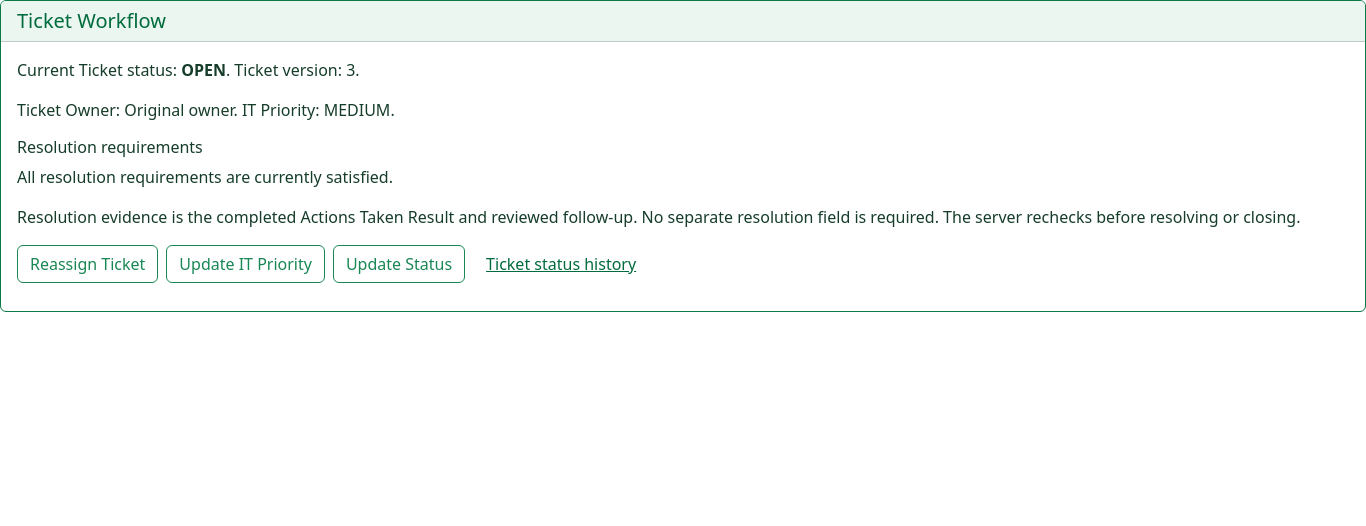
Test: Ticket Workflow component (UI-03, I4 AC-01–06) › submits the captured version and updates Ticket/actions only after success
The image size is (1366, 526).
Click the button "Update Status" at (399, 264), box x1=333 y1=245 x2=465 y2=283
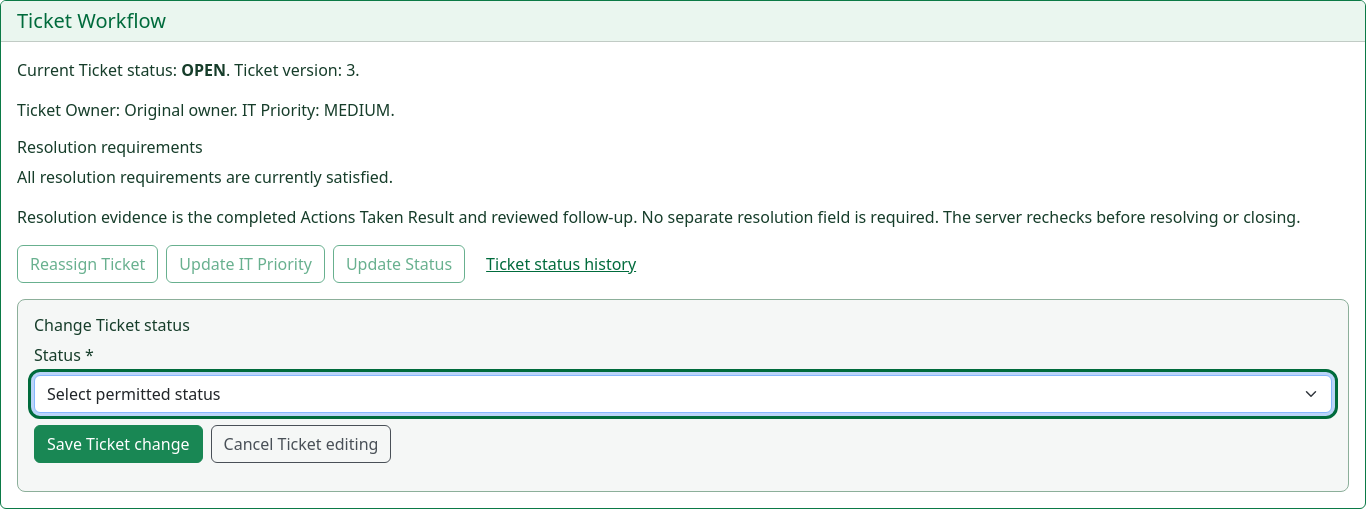
Select "IN PROGRESS" in the dropdown labelled "Status *" at (683, 394), box x1=34 y1=375 x2=1332 y2=413
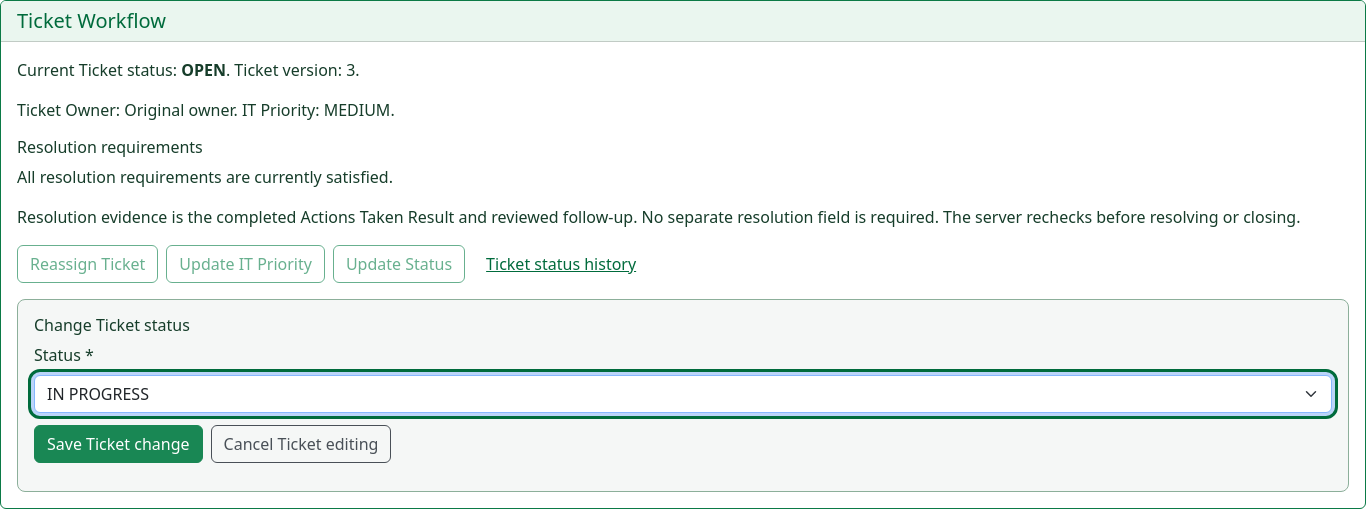
Click the button "Save Ticket change" at (118, 444), box x1=34 y1=425 x2=203 y2=463
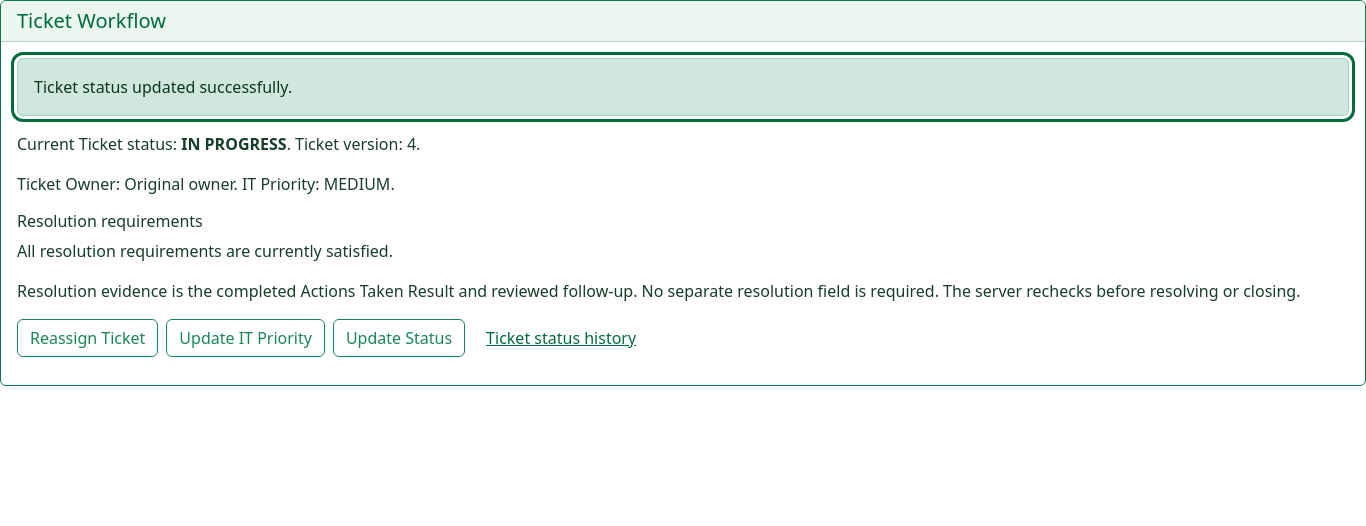
expect the text "Ticket status updated successfully." is shown: met, box x1=17 y1=58 x2=1349 y2=116
